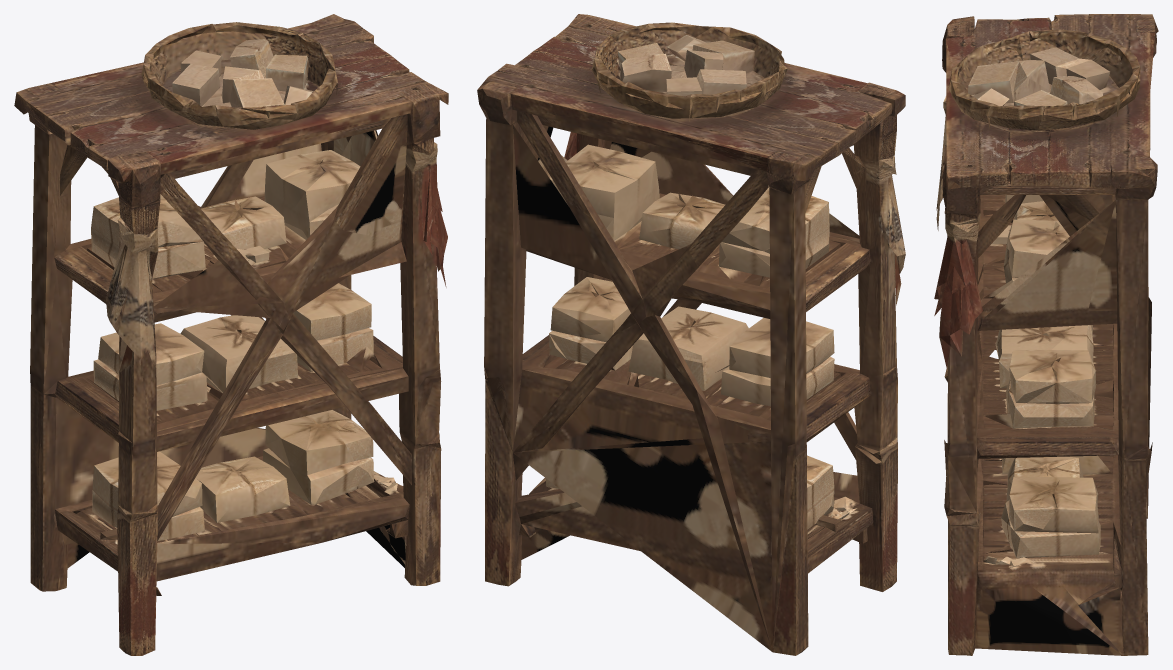
File: soap-shelf.glb
The picture shows the model from 3 angles, left to right: view 1: azimuth 30°, elevation 25°; view 2: azimuth 150°, elevation 25°; view 3: azimuth 270°, elevation 25°; orthographic projection.
Parts seen in each view (by area): view 1: output_unwrapped; view 2: output_unwrapped; view 3: output_unwrapped.
Part boxes in pixels (box(x1,y1,x2,y2)): output_unwrapped: box(14, 14, 448, 655); output_unwrapped: box(477, 14, 905, 655); output_unwrapped: box(934, 14, 1158, 655).
Size of the model in its own units: 0.745 by 1.1 by 0.4322.
1 material, 1 textured.
